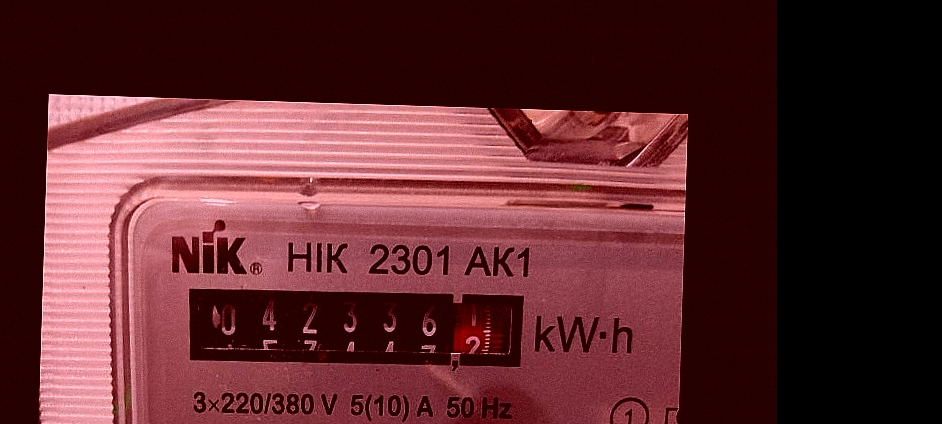0: (217, 300, 238, 336)
1: (465, 299, 479, 328)
2: (298, 299, 319, 335), (461, 333, 481, 354)
3: (377, 297, 398, 334), (339, 296, 359, 334)
4: (258, 294, 278, 332)
6: (416, 301, 439, 337)
screen: (178, 274, 533, 378)
